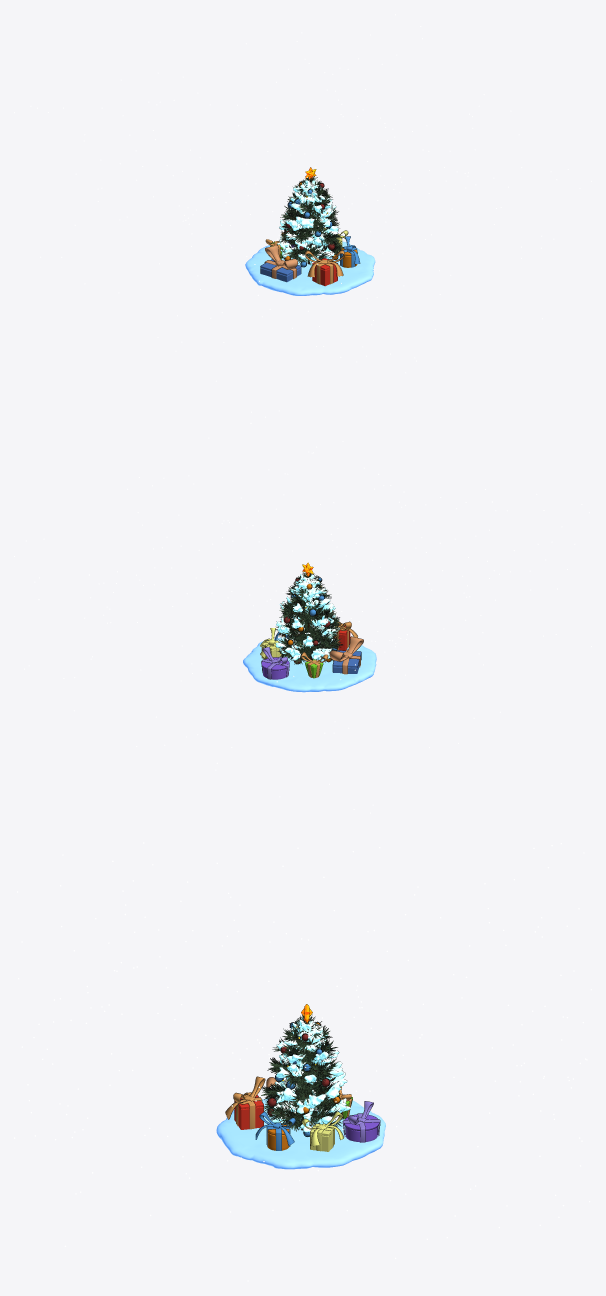
Rendered from xmastree.glb.
3 renders of one model, top to bottom at view 1: azimuth 30°, elevation 25°; view 2: azimuth 150°, elevation 25°; view 3: azimuth 270°, elevation 25°, orthographic. The views are drawn at different scales.
Visible parts, largest first — view 1: SnowBall.002_355, leaves_30, SnowBall.001_29; view 2: SnowBall.002_355, leaves_30, SnowBall.001_29; view 3: SnowBall.002_355, leaves_30, SnowBall.001_29.
Boxes of the visible parts, <box> form: SnowBall.002_355: <box>245,241,375,295</box>; leaves_30: <box>280,176,344,263</box>; SnowBall.001_29: <box>277,178,338,265</box>; SnowBall.002_355: <box>243,637,376,692</box>; leaves_30: <box>275,572,342,664</box>; SnowBall.001_29: <box>275,574,339,660</box>; SnowBall.002_355: <box>216,1098,385,1169</box>; leaves_30: <box>261,1014,343,1131</box>; SnowBall.001_29: <box>272,1017,351,1132</box>.
Bounding box in the file's own units: 38.68 × 17.72 × 38.77.
23 materials, 2 textured.
